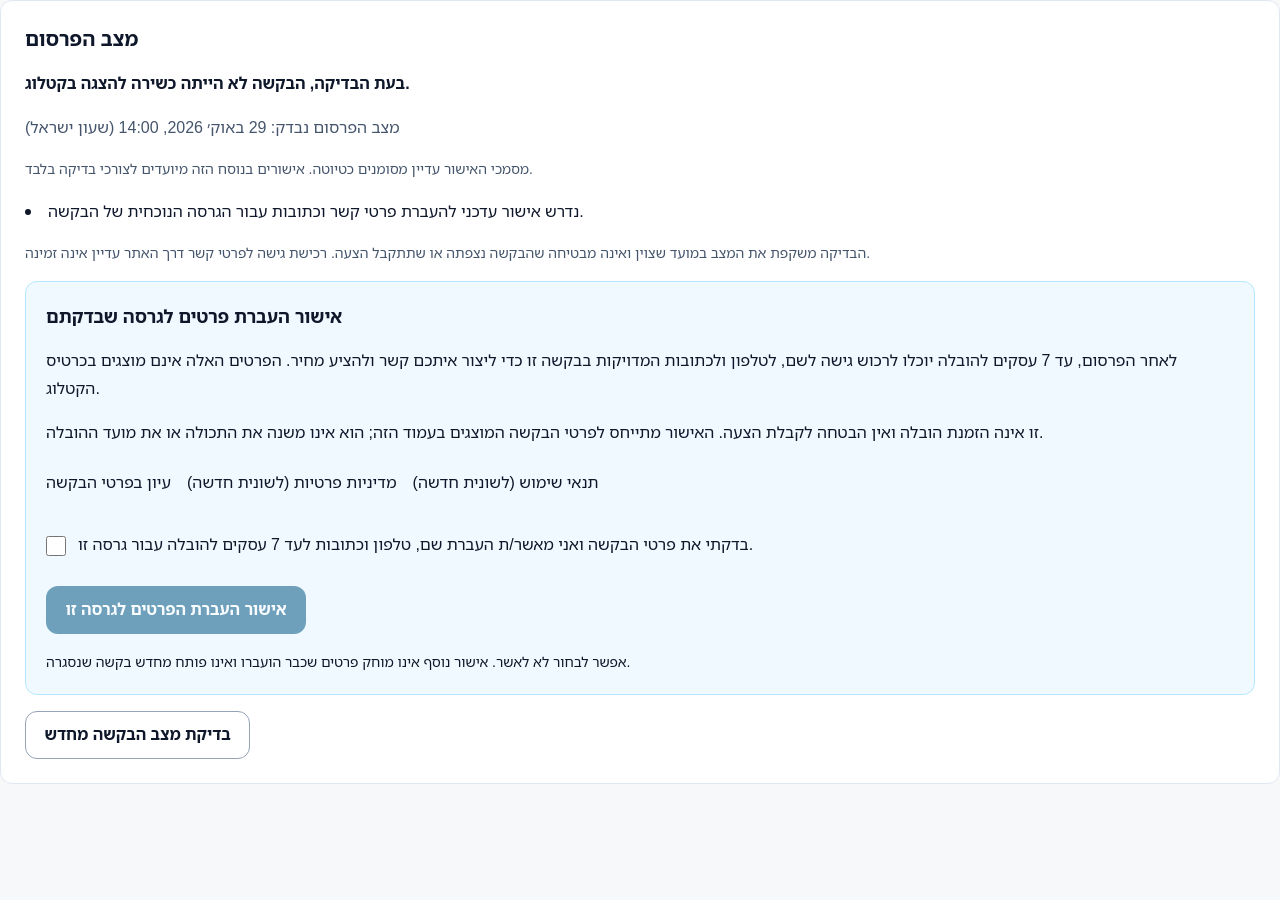
Test: renewal starts unchecked and binds actual recipient count and the reviewed version without editing contents
Expected: the button "אישור העברת הפרטים לגרסה זו" is disabled, [46, 586, 306, 634]
Click the checkbox labelled "לעד 7 עסקים" at (56, 546), box [46, 536, 66, 556]
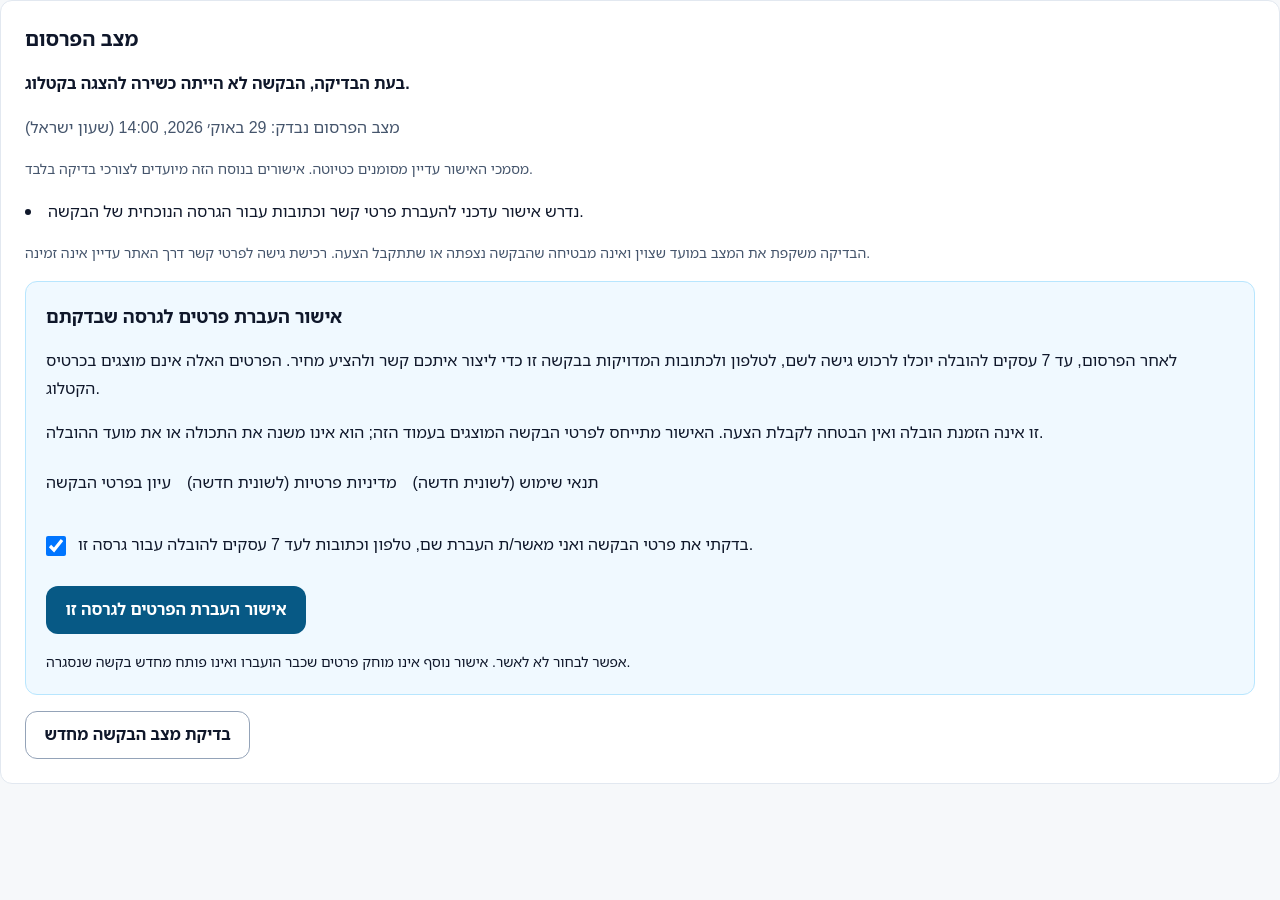
Click the button "אישור העברת הפרטים לגרסה זו" at (176, 610), box [46, 586, 306, 634]
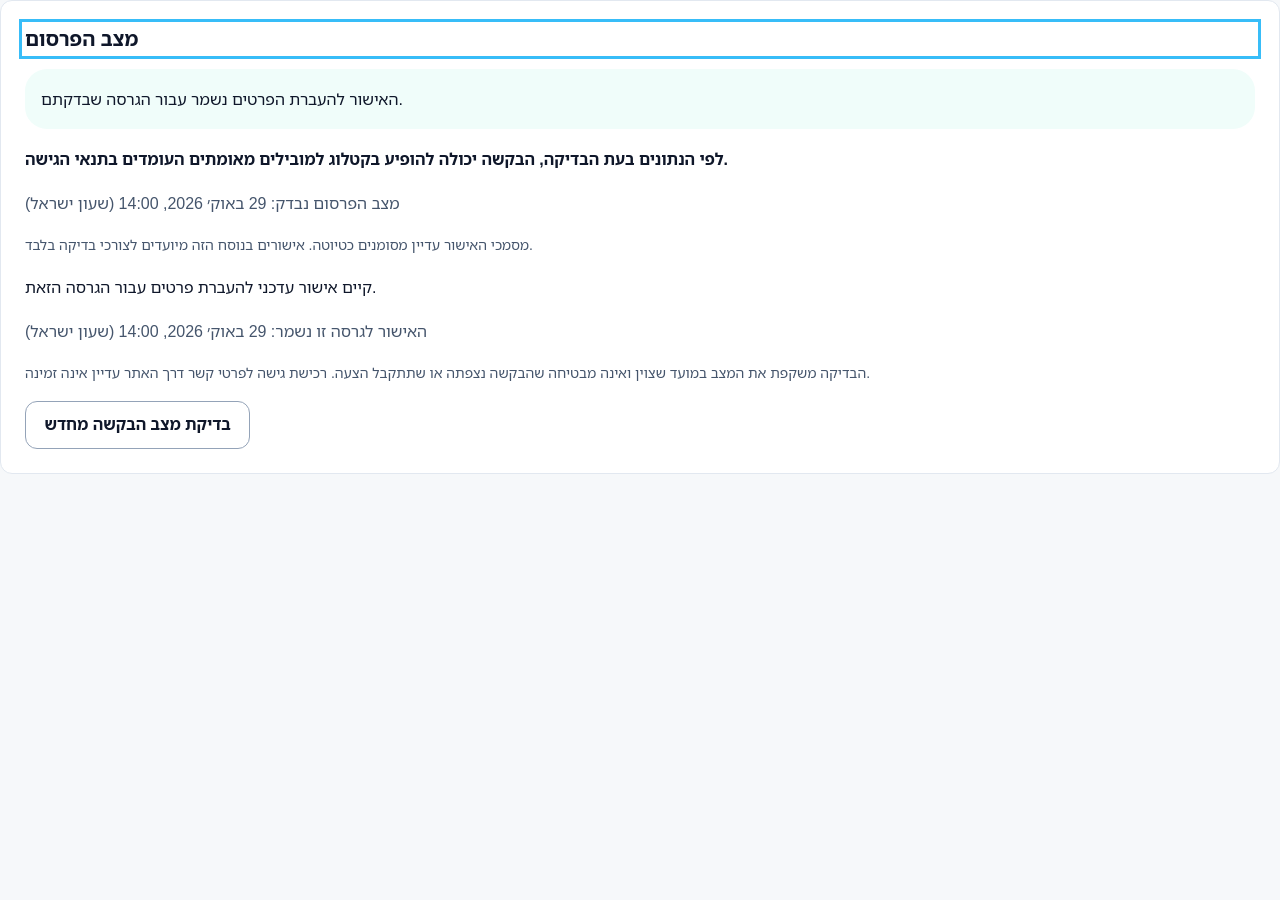
Result: the text "האישור להעברת הפרטים נשמר עבור הגרסה שבדקתם." is shown at [25, 69, 1255, 129]
Result: the checkbox is gone
